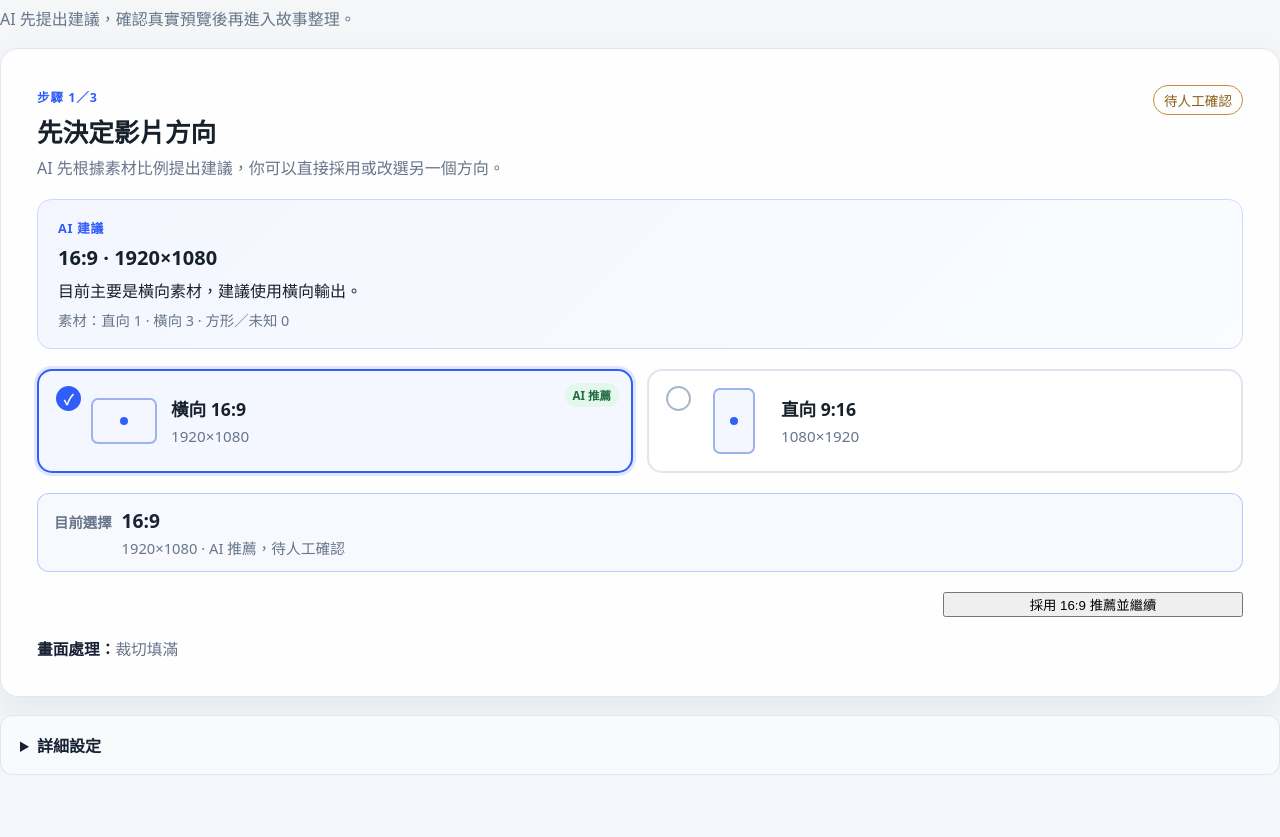
Test: CreativeFlowWorkspace › starts with only the direction decision and keeps advanced controls closed
Expected: the heading "先決定影片方向" is shown, 37,115 -> 216,150
Expected: the button "採用 16:9 推薦並繼續" is shown, 943,592 -> 1243,617
Click the heading "詳細設定": {"x": 69, "y": 746} 37,735 -> 101,757
(page scrolled)
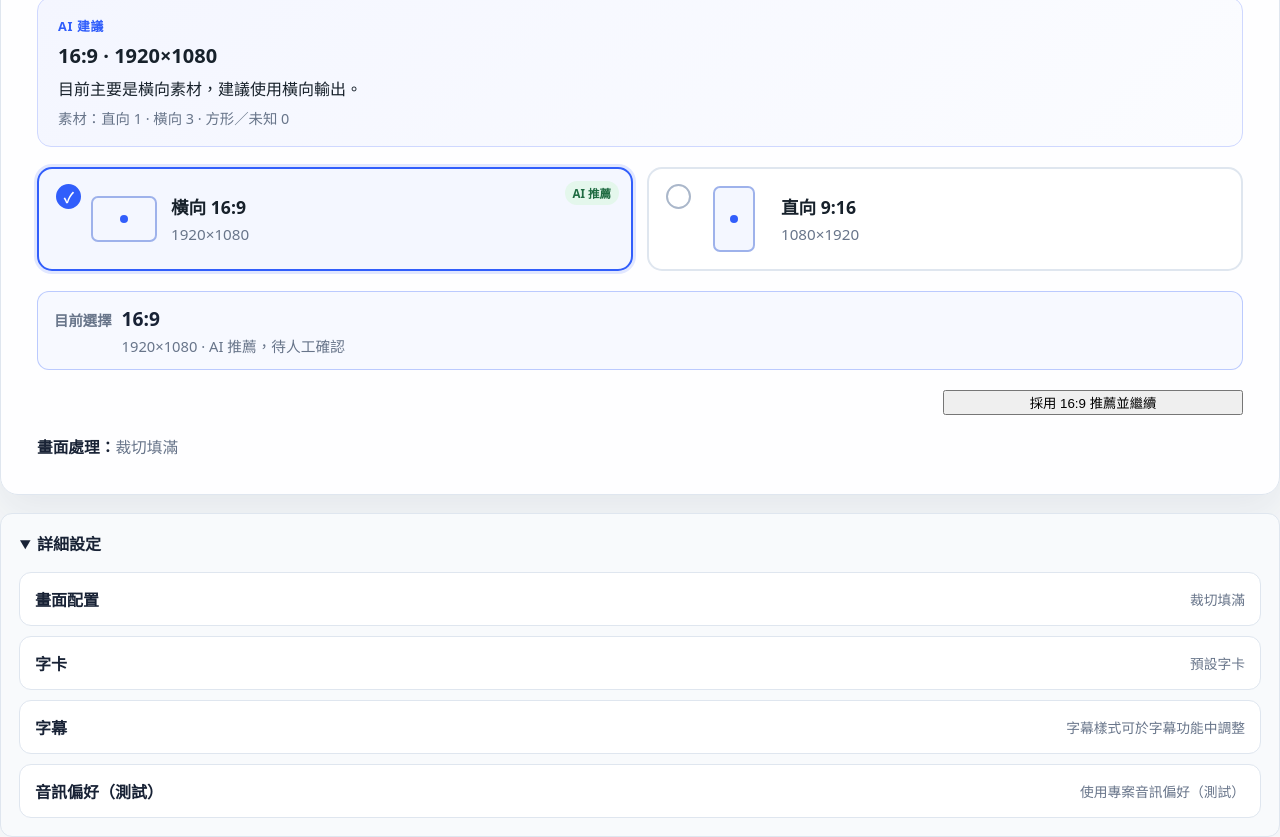
Now the text "音訊偏好（測試）" is shown, box 35,779 -> 163,803
Now the text "使用專案音訊偏好（測試）" is shown 2 times
